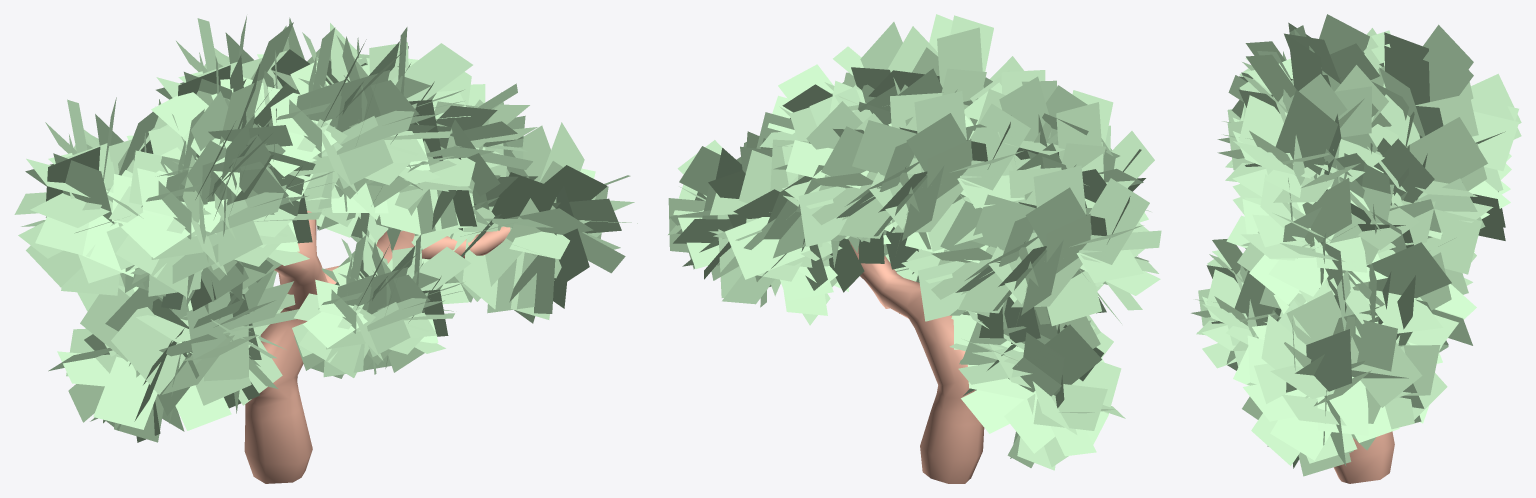
File: Tree_01.fbx
The picture shows the model from 3 angles, left to right: view 1: azimuth 30°, elevation 25°; view 2: azimuth 150°, elevation 25°; view 3: azimuth 270°, elevation 25°; orthographic projection. The views are drawn at different scales.
Visible parts, largest first — view 1: Tree_01; view 2: Tree_01; view 3: Tree_01.
Boxes of the visible parts, x1,y1,x2,y2 form: Tree_01: (14, 16, 637, 483); Tree_01: (668, 14, 1161, 483); Tree_01: (1191, 14, 1521, 483).
Bounding box in the file's own units: 961 × 756 × 510.
